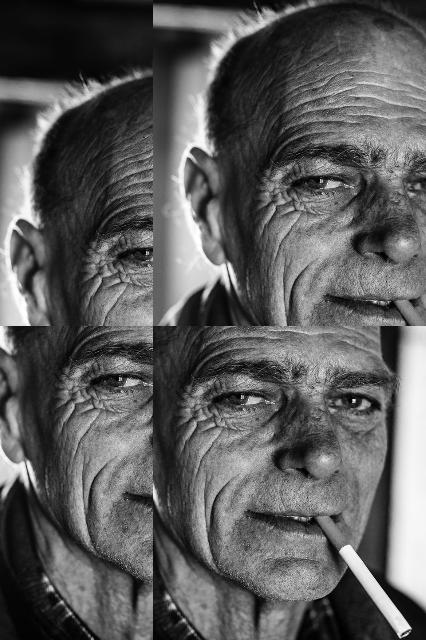crows_feet: (179, 392, 213, 436), (252, 45, 268, 59), (43, 56, 53, 72)
forehead: (192, 326, 266, 346), (283, 326, 342, 346), (345, 326, 376, 359), (224, 0, 248, 12), (244, 16, 260, 29), (171, 0, 195, 7), (200, 0, 219, 8)
gummy_smile: (221, 76, 237, 94), (167, 68, 182, 84), (30, 82, 42, 94)
masseter: (194, 494, 224, 556), (36, 104, 46, 124)
sad_smile: (236, 97, 252, 113)
